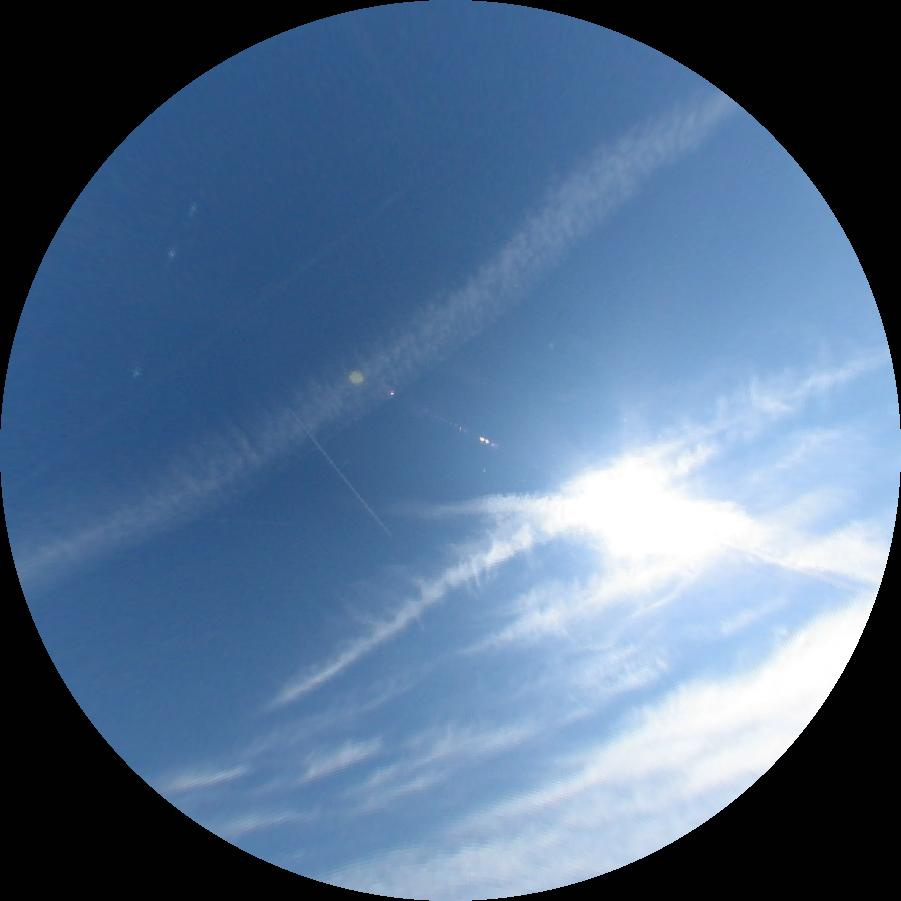contrail old: (4, 184, 409, 501)
contrail veryold: (10, 80, 748, 594), (158, 423, 887, 844), (256, 350, 894, 717), (387, 497, 888, 587)
contrail young: (286, 403, 393, 538)
parasite: (130, 202, 198, 380), (727, 541, 876, 597)
sun: (589, 480, 697, 543)
